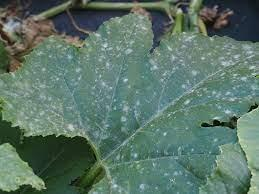powdery_mildew: (7, 30, 259, 188)
